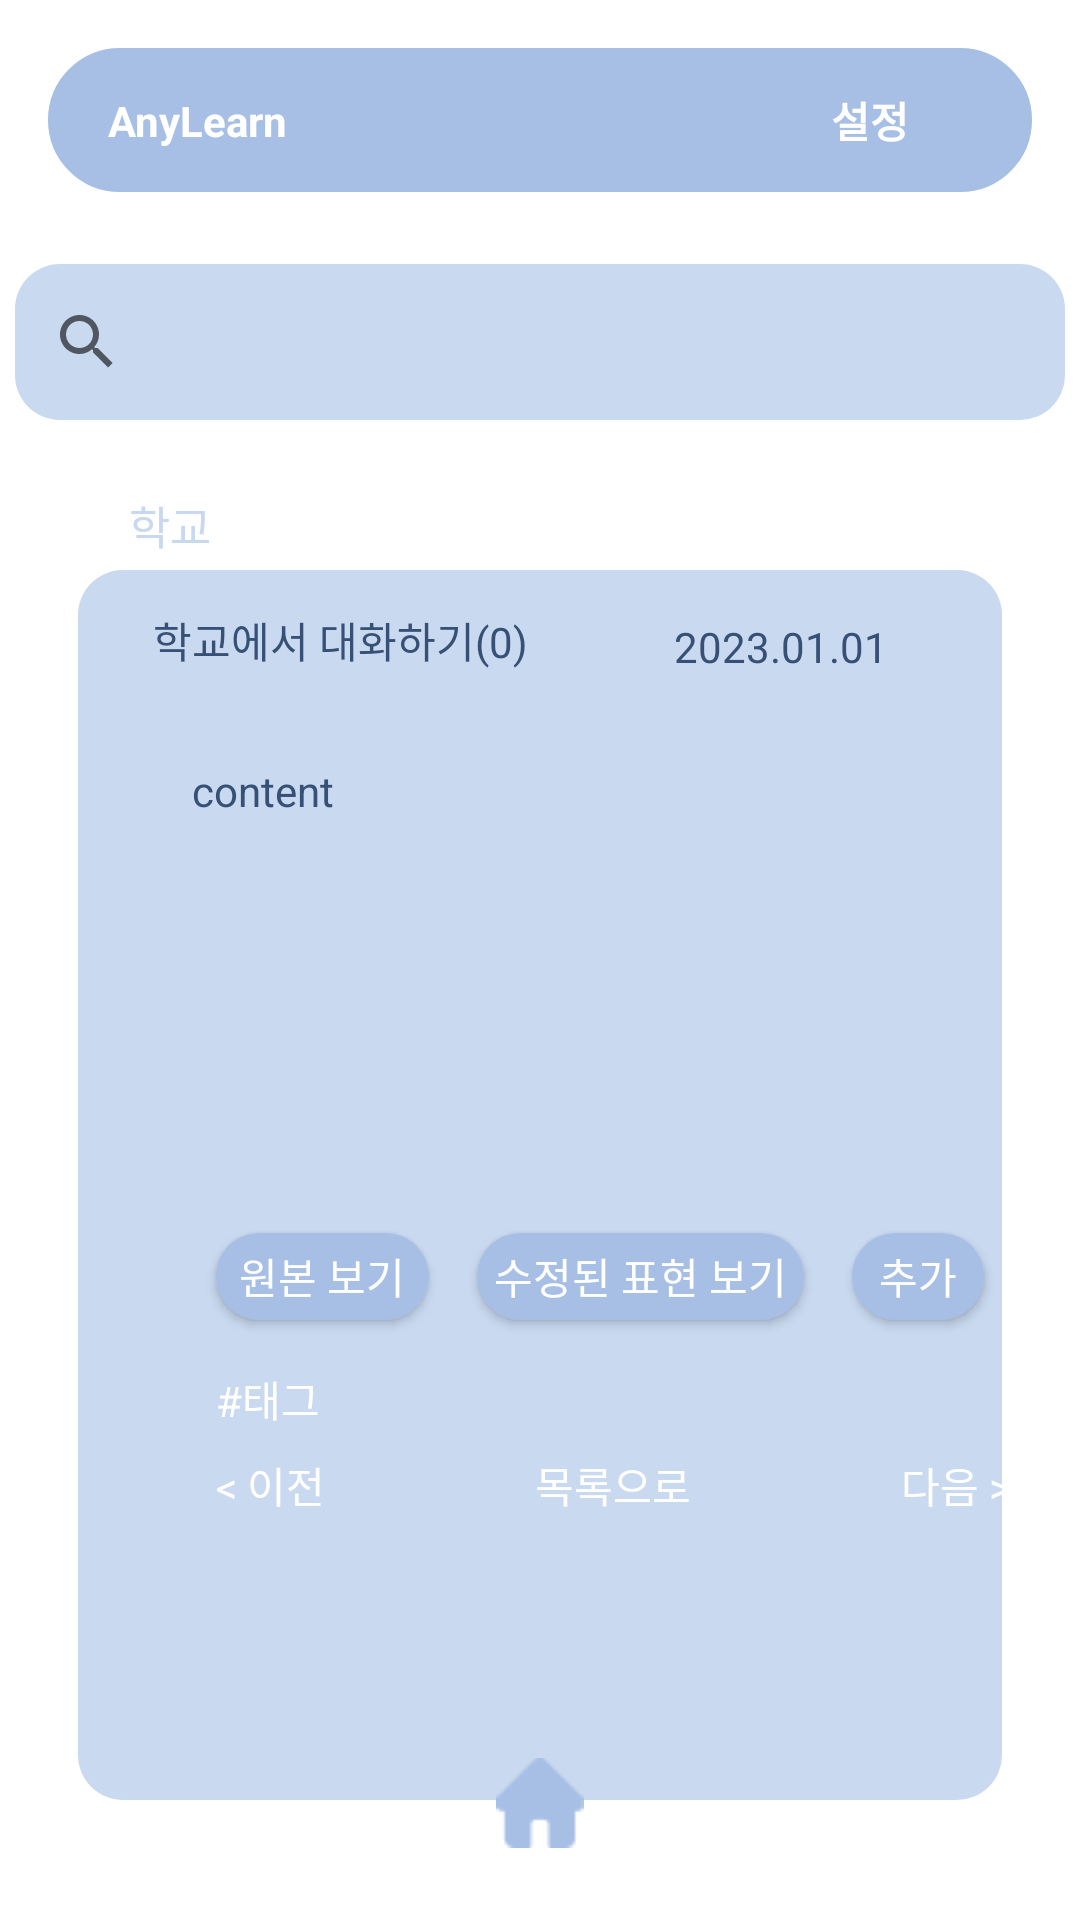

Where to tap for icons on this 1080x1920 app screen, as point (x, y):
home: point (540, 1803)
